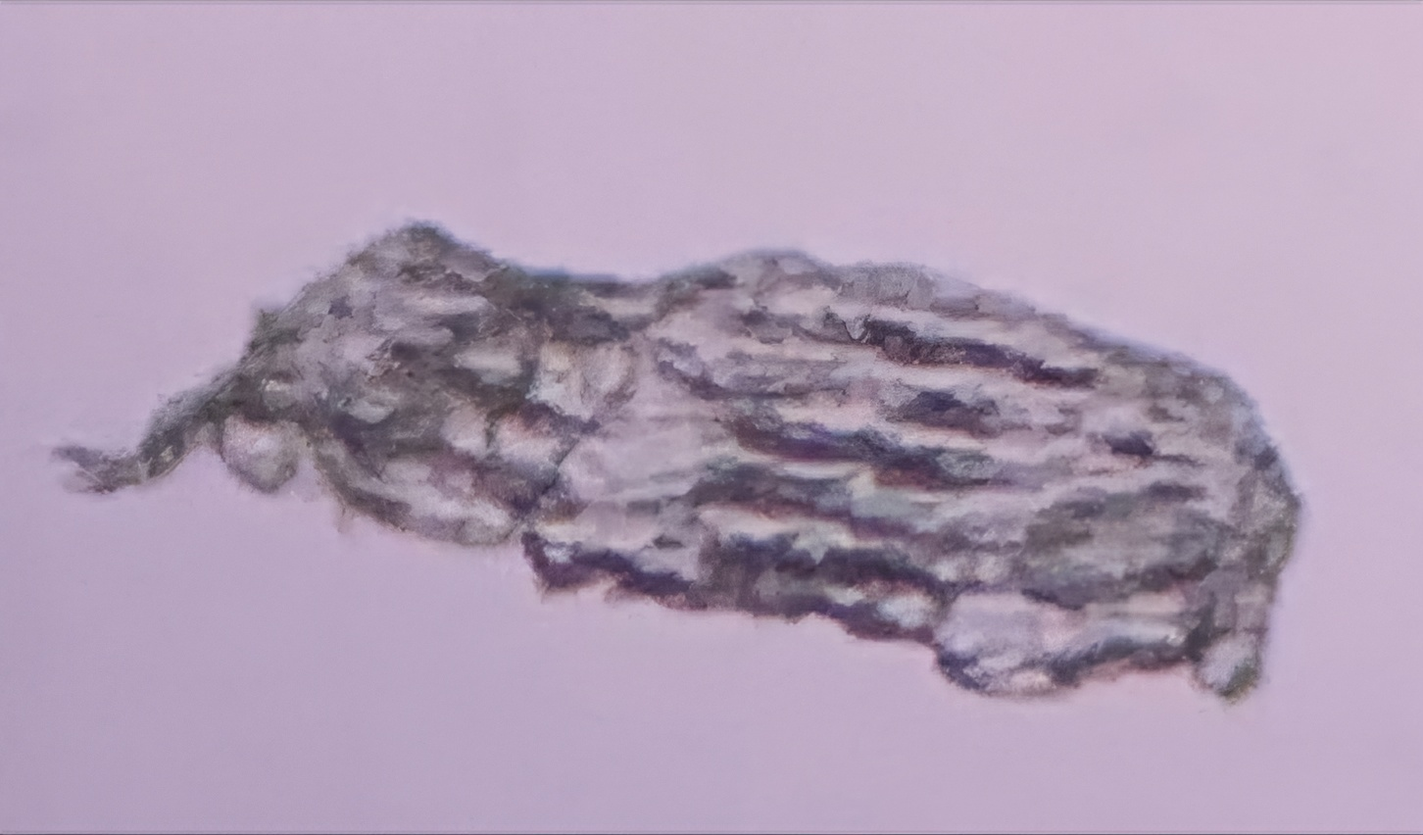microplastic: (29, 210, 1308, 715)
